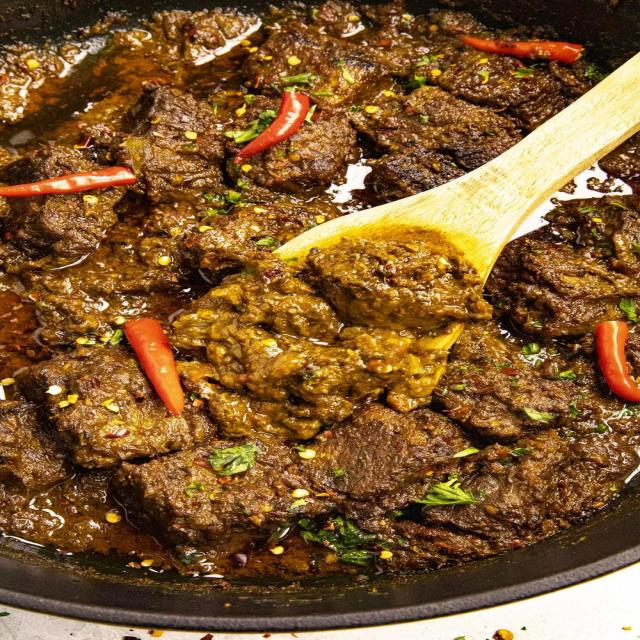Rendang: (0, 7, 640, 599)
